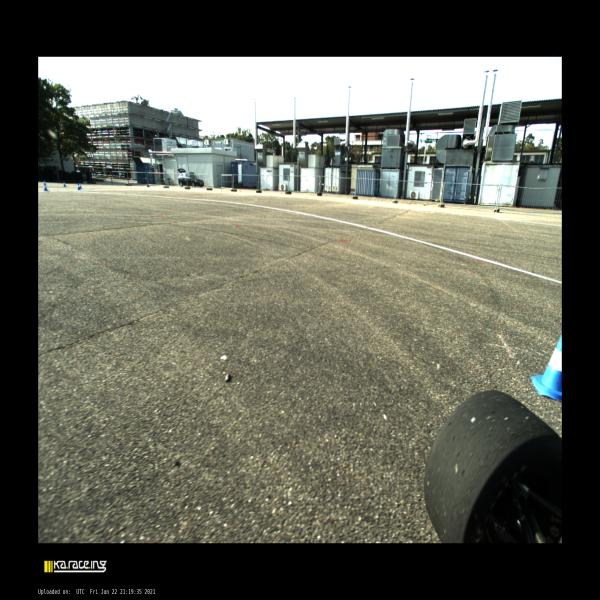blue_cone: (530, 332, 562, 401), (44, 181, 48, 191), (77, 184, 81, 190), (63, 182, 66, 187), (80, 183, 82, 188)
